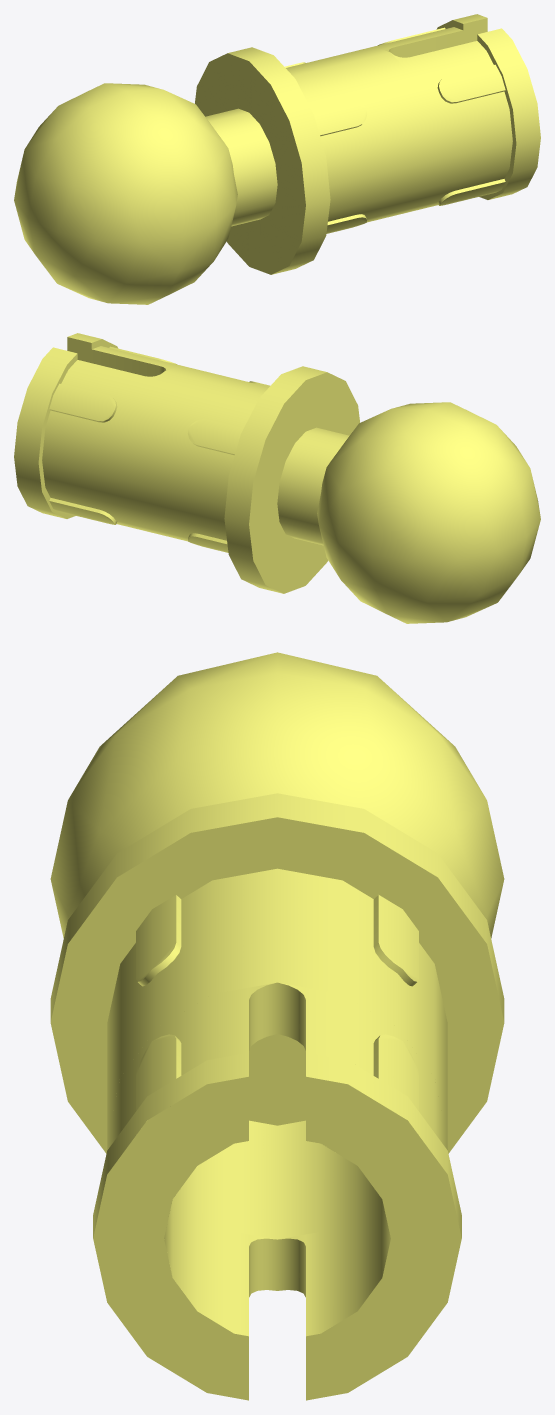
3 views of the same model, one above another, from view 1: azimuth 30°, elevation 25°; view 2: azimuth 150°, elevation 25°; view 3: azimuth 270°, elevation 25° (orthographic). The views are drawn at different scales.
Visible parts, largest first — view 1: 6628.dat; view 2: 6628.dat; view 3: 6628.dat.
Part boxes in pixels (bbox=[...]): 6628.dat: bbox=[14, 14, 540, 304]; 6628.dat: bbox=[14, 333, 540, 623]; 6628.dat: bbox=[50, 652, 504, 1400].
Size of the model in its own units: 0.0152 by 0.0064 by 0.0064.
